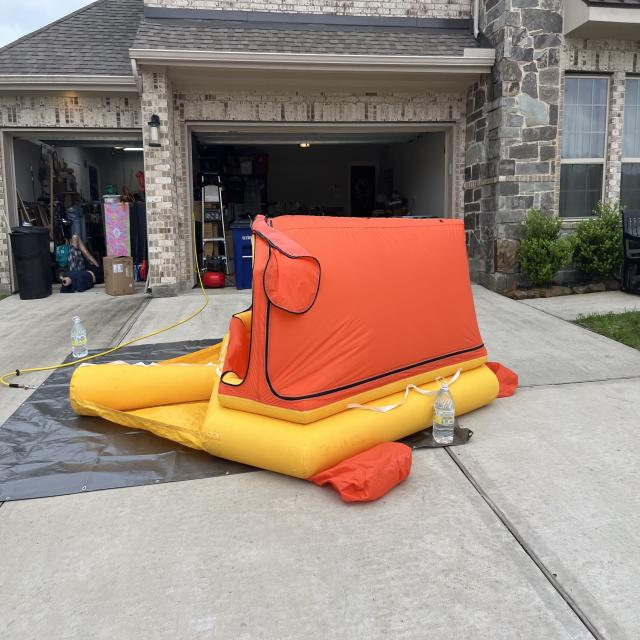Multi-person_life_raft: (70, 212, 518, 502)
